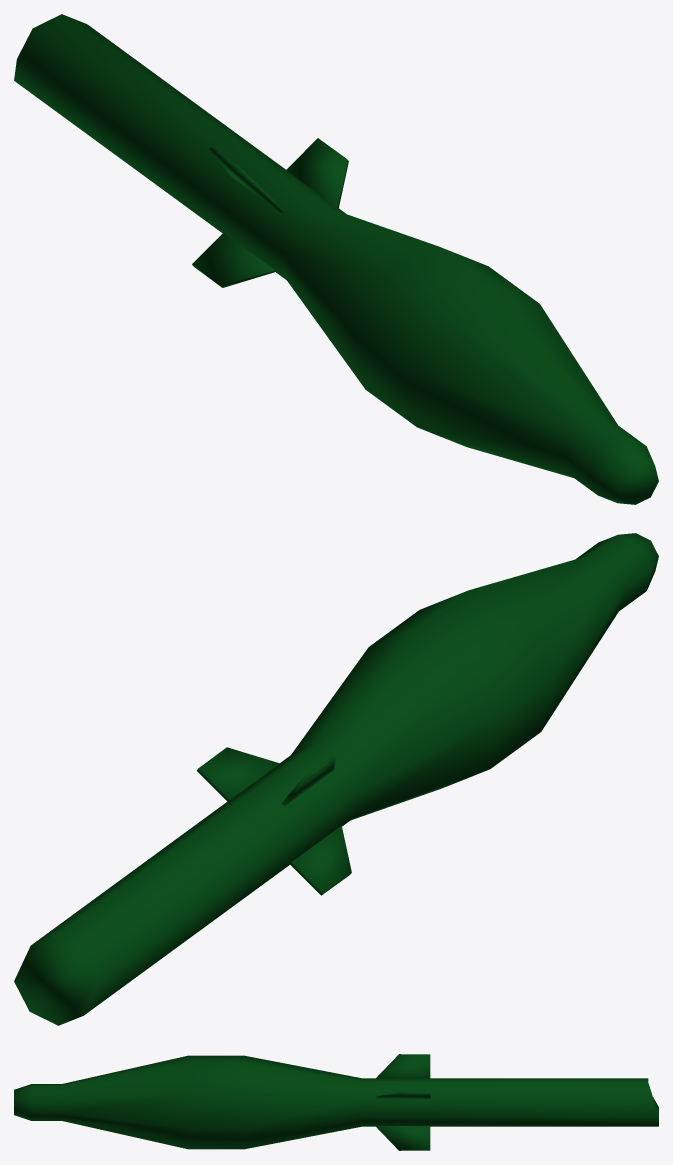
File: rpgRocket.glb
3 renders of one model, top to bottom at view 1: azimuth 30°, elevation 25°; view 2: azimuth 150°, elevation 25°; view 3: azimuth 270°, elevation 25°, orthographic. The views are drawn at different scales.
Visible parts, largest first — view 1: cylinder9; view 2: cylinder9; view 3: cylinder9.
Boxes of the visible parts, <box> form: cylinder9: <box>14,14,658,504</box>; cylinder9: <box>14,533,658,1025</box>; cylinder9: <box>14,1054,658,1150</box>.
Size of the model in its own units: 0.5449 by 0.5449 by 3.73.
Materials: 1 (1 with a texture image).
